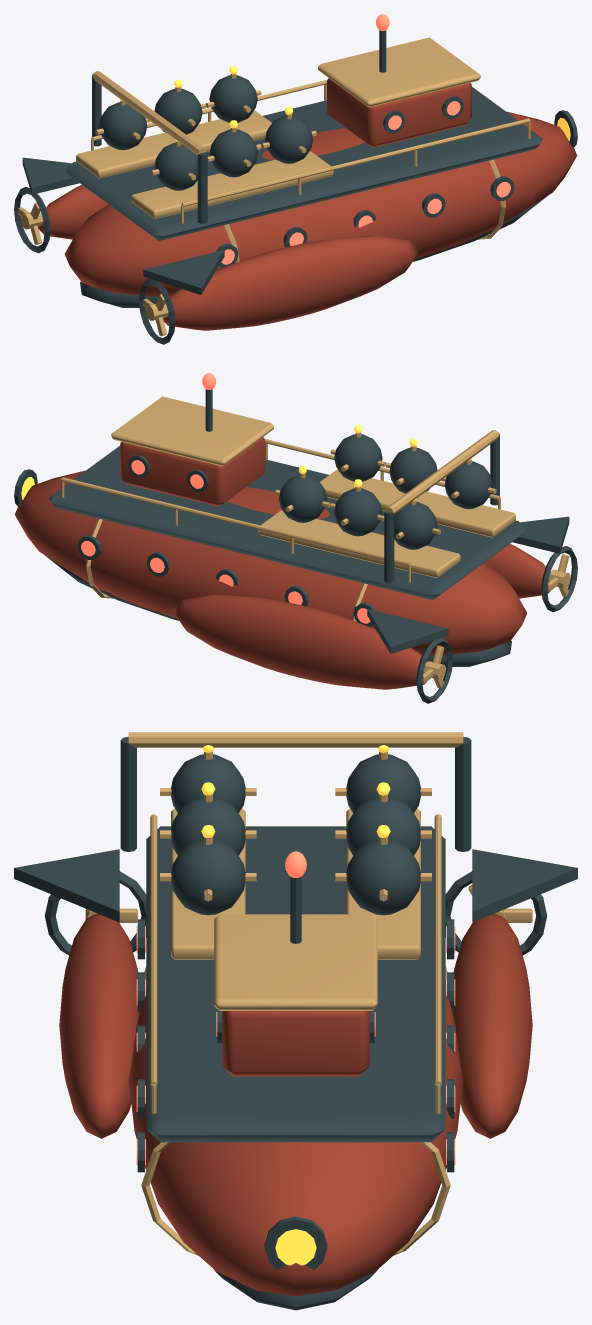
Rendered from enemy-minelayer.glb.
The picture shows the model from 3 angles, top to bottom: view 1: azimuth 30°, elevation 25°; view 2: azimuth 150°, elevation 25°; view 3: azimuth 270°, elevation 25°; orthographic projection. The views are drawn at different scales.
Parts seen in each view (by area): view 1: enemy-minelayer / Hull | burnt cinnabar, enemy-minelayer / Hull | charcoal iron, enemy-minelayer / Fittings | worn maritime brass, enemy-minelayer / Lamp | hostile coral, enemy-minelayer / Lamp | furnace amber; view 2: enemy-minelayer / Hull | burnt cinnabar, enemy-minelayer / Hull | charcoal iron, enemy-minelayer / Fittings | worn maritime brass, enemy-minelayer / Lamp | hostile coral, enemy-minelayer / Lamp | furnace amber; view 3: enemy-minelayer / Hull | charcoal iron, enemy-minelayer / Hull | burnt cinnabar, enemy-minelayer / Fittings | worn maritime brass, enemy-minelayer / Lamp | furnace amber, enemy-minelayer / Lamp | hostile coral.
Part boxes in pixels (x1=…): enemy-minelayer / Hull | burnt cinnabar: x1=38, y1=78, x2=577, y2=330; enemy-minelayer / Hull | charcoal iron: x1=14, y1=30, x2=577, y2=344; enemy-minelayer / Fittings | worn maritime brass: x1=18, y1=37, x2=530, y2=336; enemy-minelayer / Lamp | hostile coral: x1=221, y1=14, x2=510, y2=264; enemy-minelayer / Lamp | furnace amber: x1=119, y1=66, x2=570, y2=141; enemy-minelayer / Hull | burnt cinnabar: x1=14, y1=437, x2=550, y2=689; enemy-minelayer / Hull | charcoal iron: x1=14, y1=389, x2=577, y2=703; enemy-minelayer / Fittings | worn maritime brass: x1=61, y1=396, x2=570, y2=688; enemy-minelayer / Lamp | hostile coral: x1=81, y1=373, x2=370, y2=623; enemy-minelayer / Lamp | furnace amber: x1=21, y1=425, x2=472, y2=500; enemy-minelayer / Hull | charcoal iron: x1=14, y1=736, x2=577, y2=1310; enemy-minelayer / Hull | burnt cinnabar: x1=59, y1=913, x2=532, y2=1296; enemy-minelayer / Fittings | worn maritime brass: x1=85, y1=732, x2=532, y2=1255; enemy-minelayer / Lamp | furnace amber: x1=201, y1=745, x2=390, y2=1265; enemy-minelayer / Lamp | hostile coral: x1=136, y1=851, x2=455, y2=1165.
Size of the model in its own units: 9.1 by 4.13 by 5.6.
